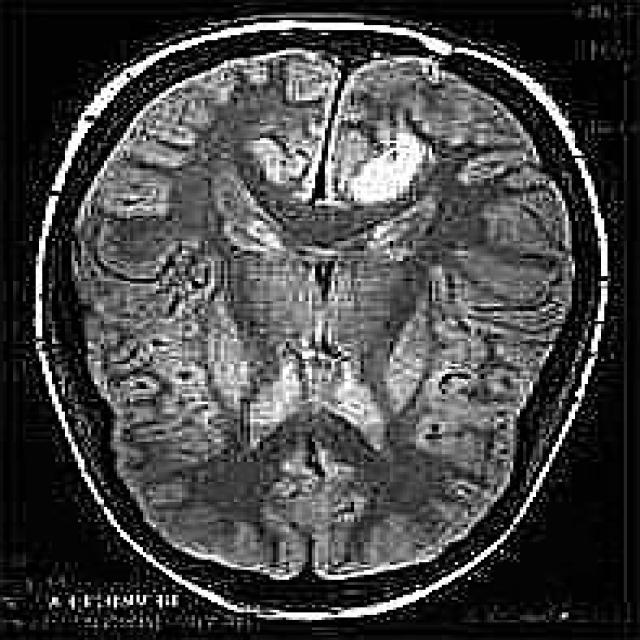Tumor-Cell: (324, 130, 454, 237)
